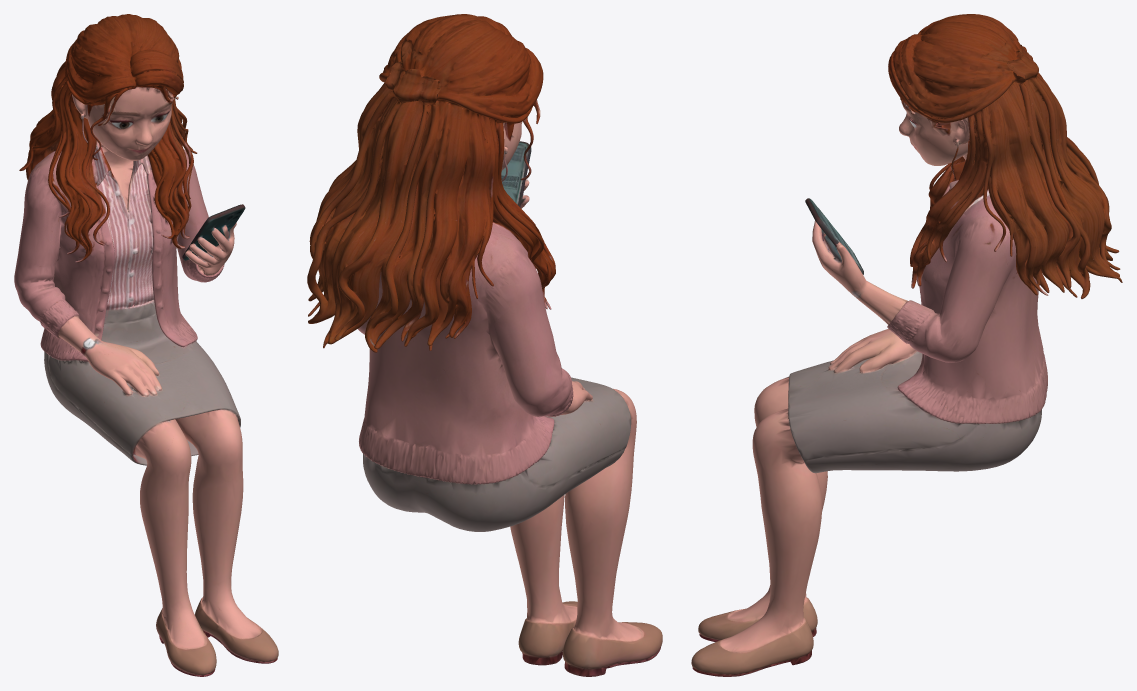
Rendered from user_d_seated_meshy.glb.
3 renders of one model, left to right at view 1: azimuth 30°, elevation 25°; view 2: azimuth 150°, elevation 25°; view 3: azimuth 270°, elevation 25°, orthographic. The views are drawn at different scales.
Size of the model in its own units: 0.6461 by 1.9 by 1.17.
Materials: 1 (1 with a texture image).
